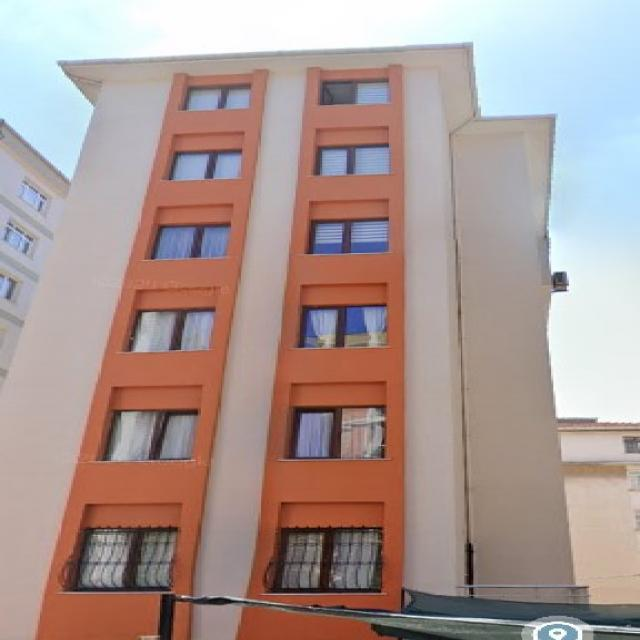Building: (0, 42, 574, 640)
